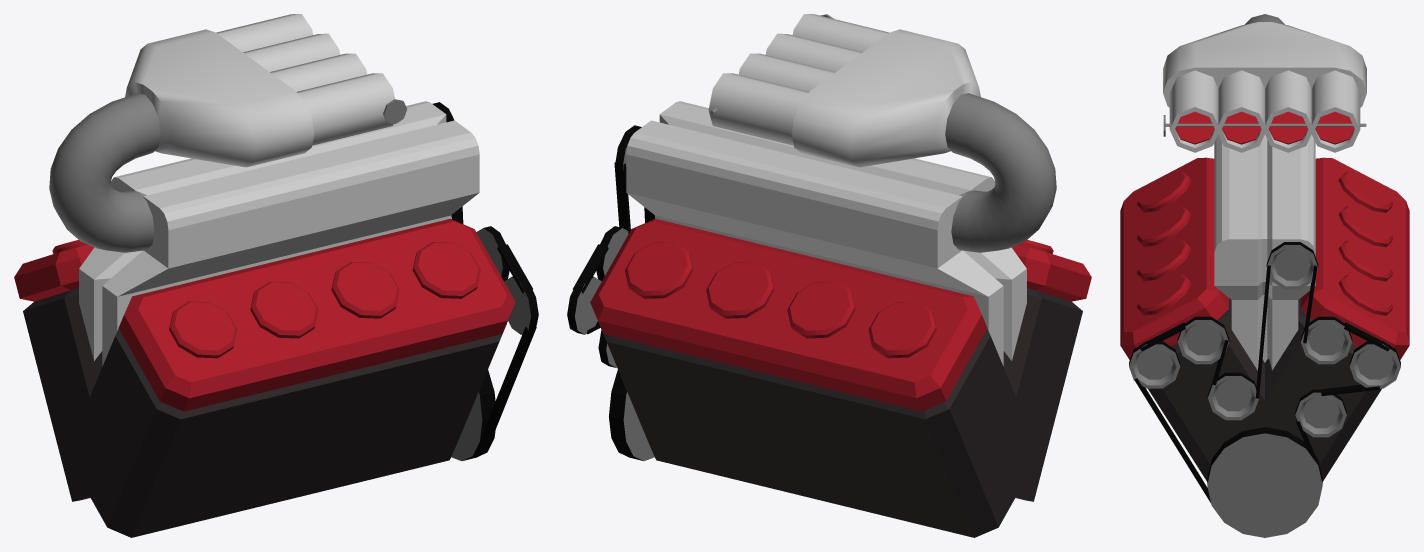
Rendered from SM_Motor_V8.fbx.
The picture shows the model from 3 angles, left to right: view 1: azimuth 30°, elevation 25°; view 2: azimuth 150°, elevation 25°; view 3: azimuth 270°, elevation 25°; orthographic projection. The views are drawn at different scales.
Visible parts, largest first — view 1: Motor_V8; view 2: Motor_V8; view 3: Motor_V8.
Part boxes in pixels (x1,y1,x2,y2): Motor_V8: (14,14,538,537); Motor_V8: (567,14,1091,537); Motor_V8: (1120,14,1409,537).
Size of the model in its own units: 61.49 by 63.31 by 43.42.
